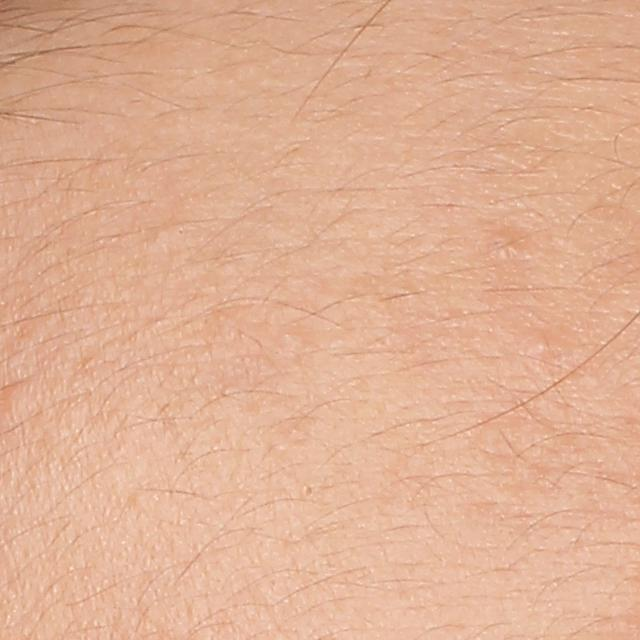comedo: (297, 480, 320, 503)
